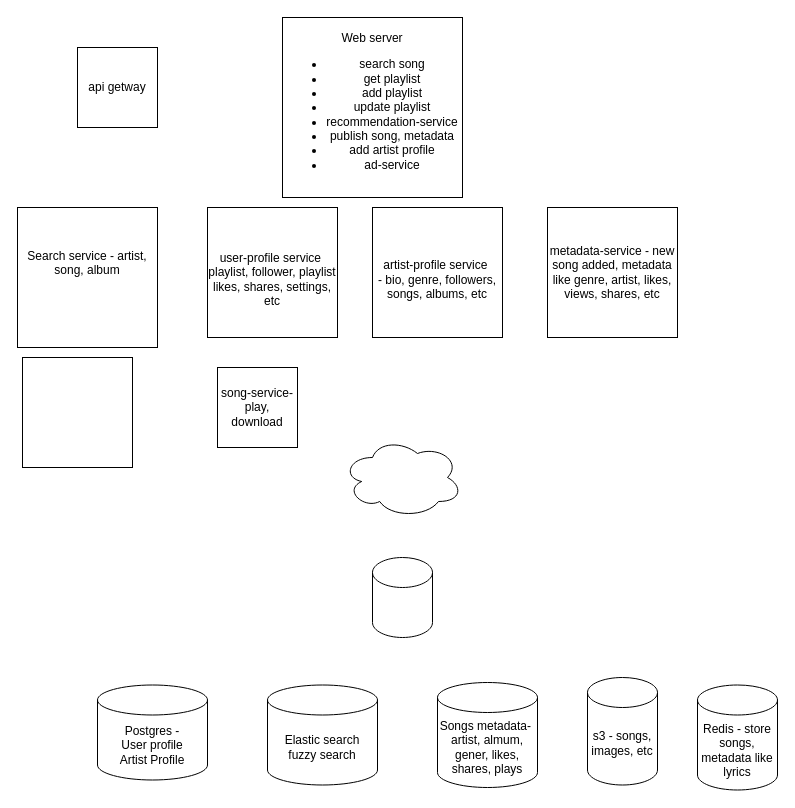
Image size: 795x808. Some labels were removed from this diagram. The shapes that lost their labels are listed below. From the top down, each one's centre as x and y in pixels, then its label:
At point 77,412: "recommendation-service trends, genre, mood, play history".
At point 402,477: "CDN".
At point 402,597: "Datastores".
